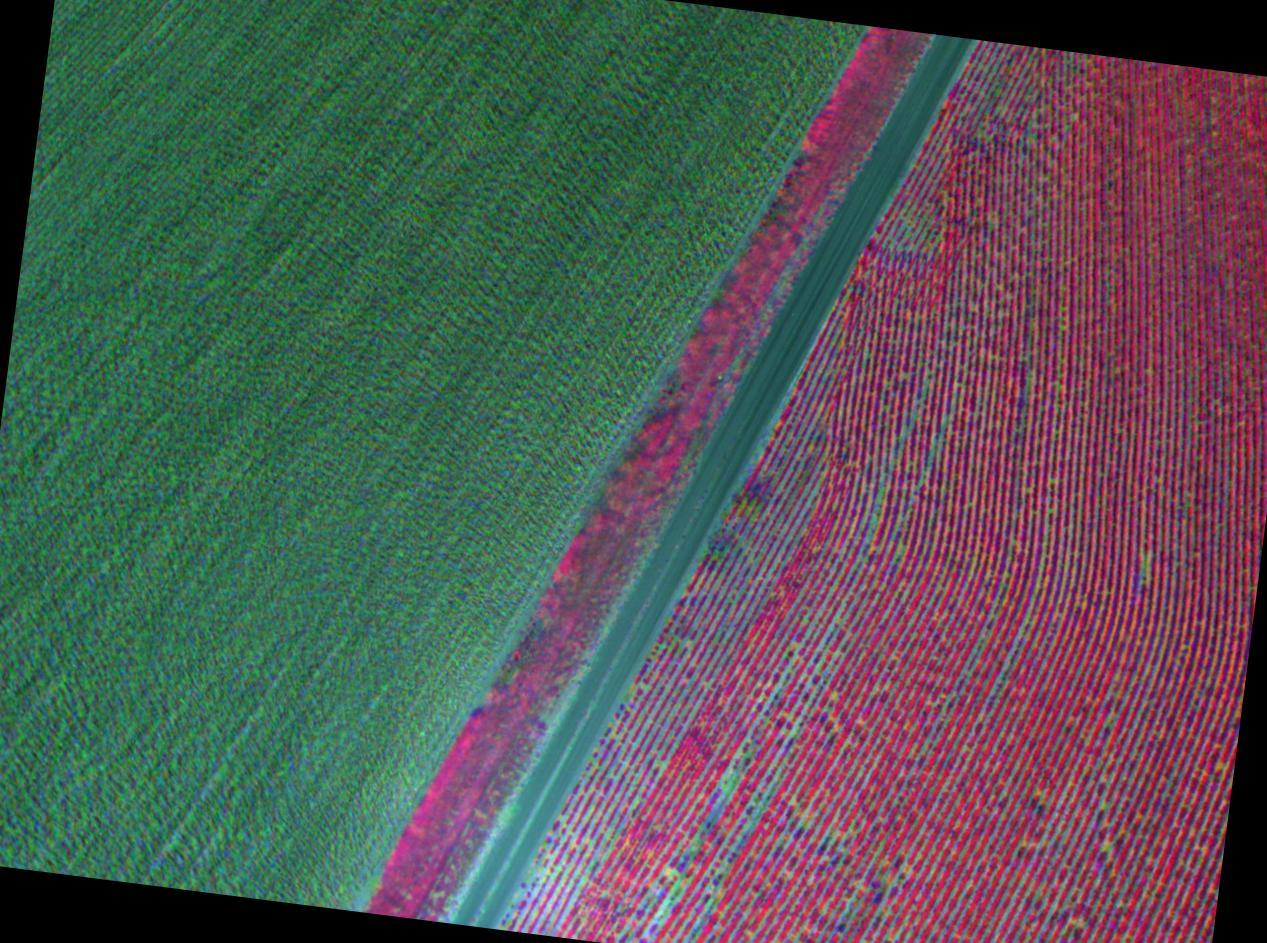dc: (726, 787, 734, 793), (892, 880, 897, 885), (1142, 561, 1146, 566), (1108, 848, 1112, 852), (670, 872, 674, 876), (920, 399, 924, 402)
